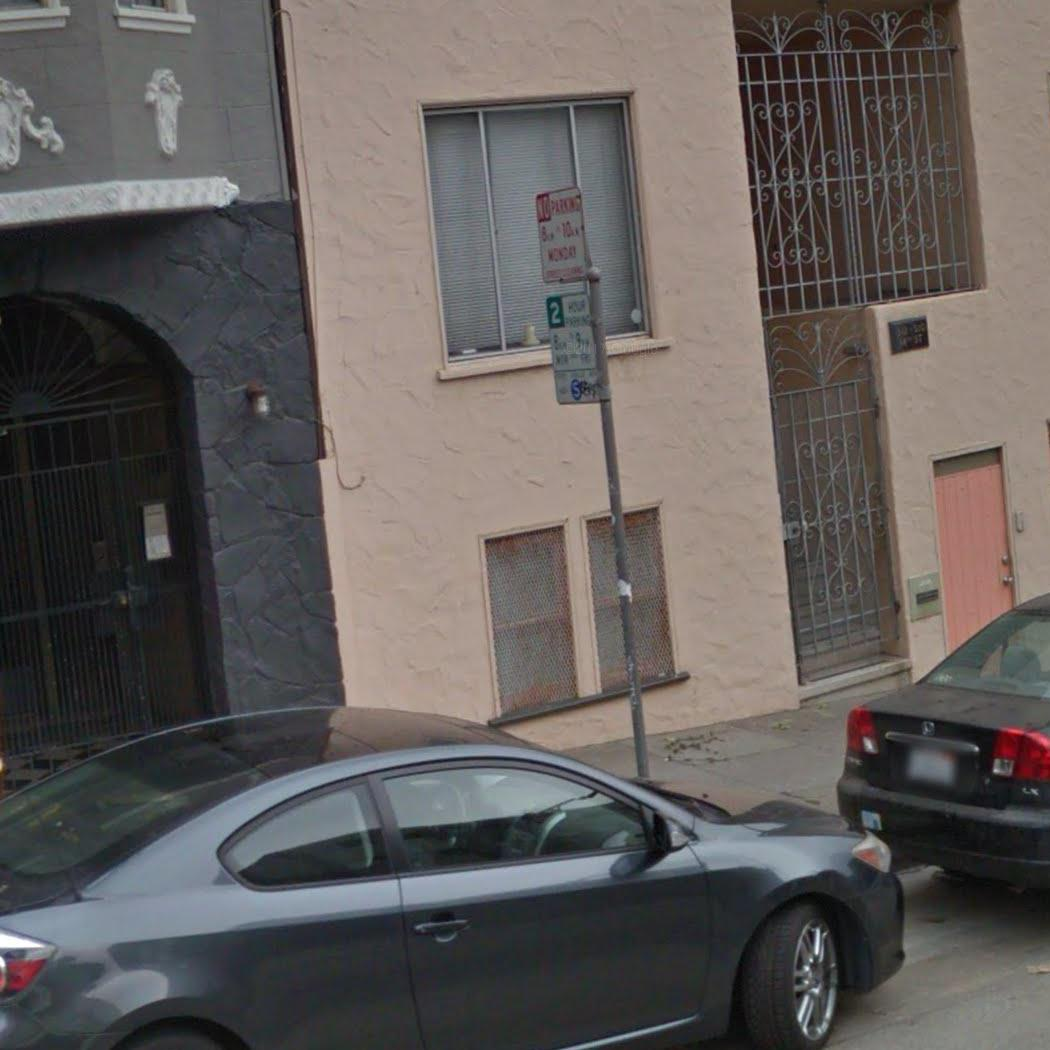2 Hour Parking: (542, 288, 606, 407)
No Parking: (533, 185, 590, 284)
